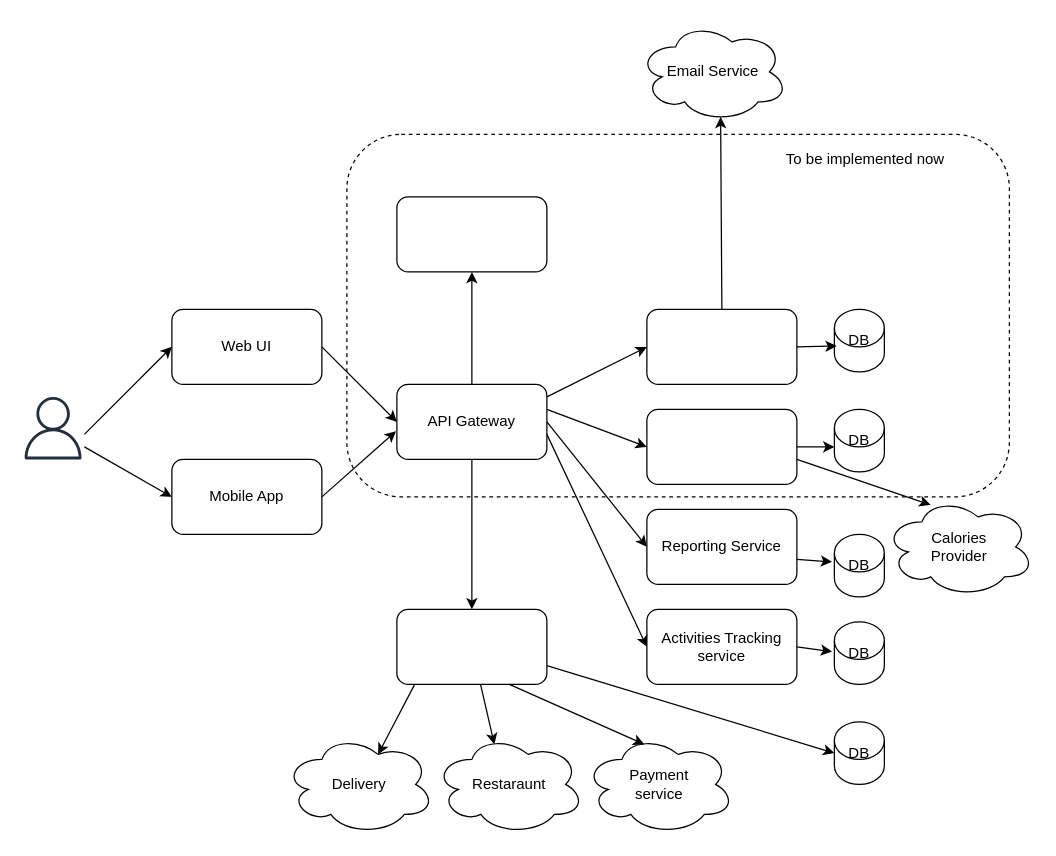
The diagram is 1056 pixels wide and 856 high, and some of its shapes have lost their labels. The shapes that lost their labels are listed below. From the top down, each one's centre as x and y in pixels, then its label:
At [471,234]: "Authentication service".
At [721,346]: "User service".
At [721,446]: "Calories records service".
At [471,646]: "Orders service".
